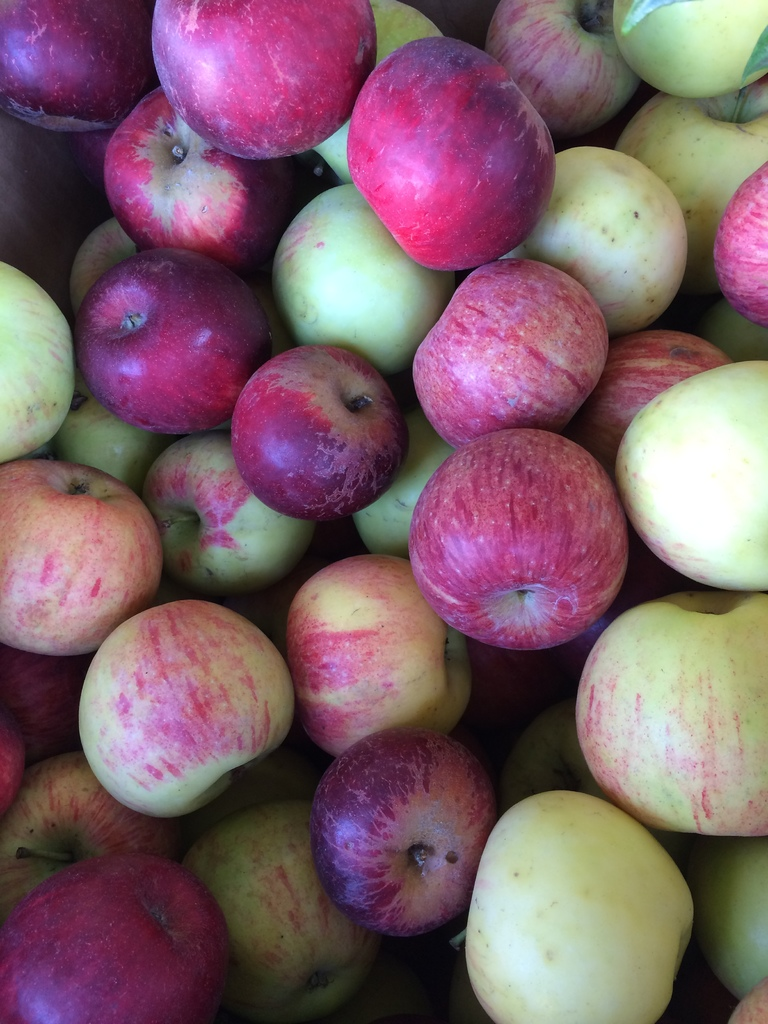Apple: (0, 0, 767, 1023), (234, 322, 418, 520)
